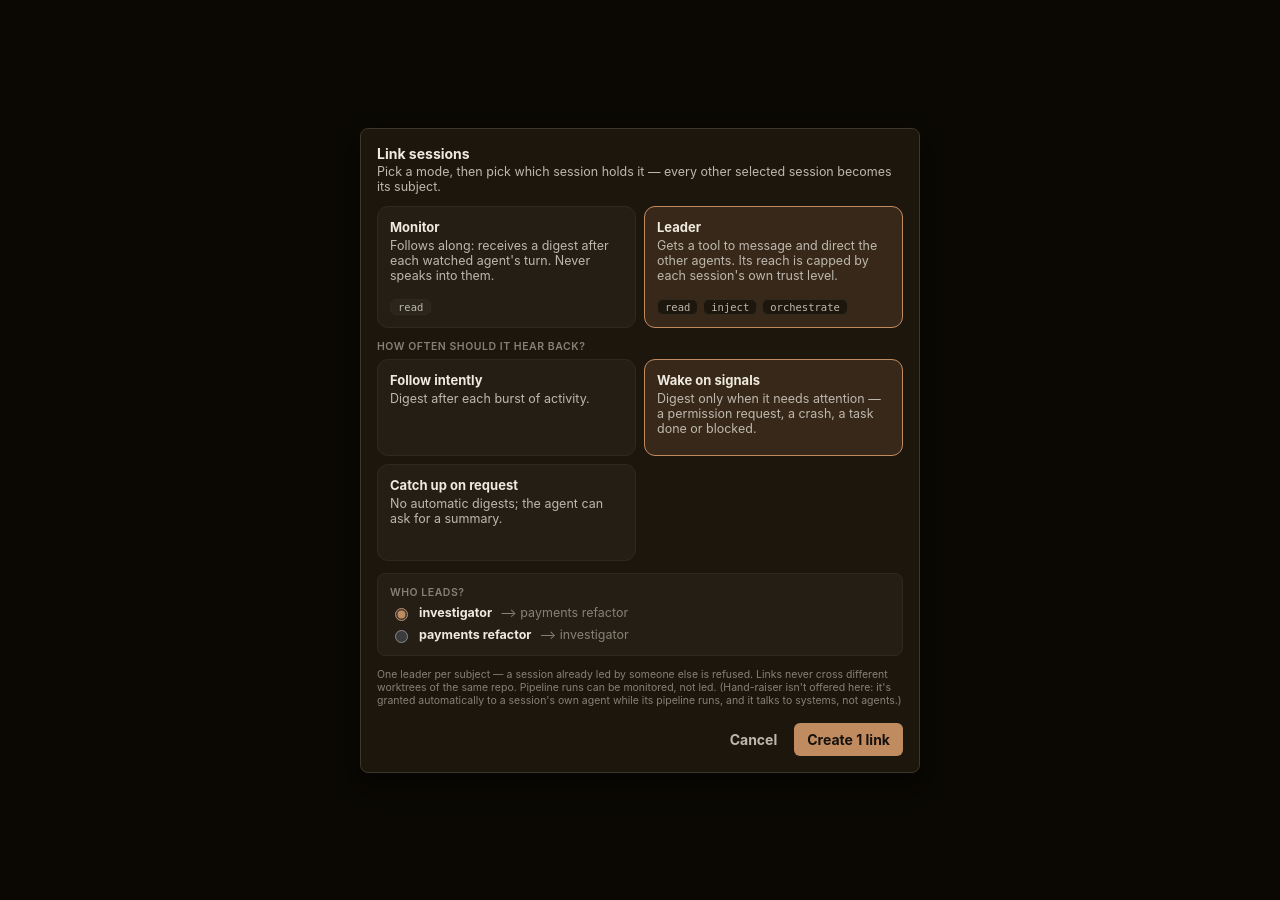
Test case: LinkChooserDialog › switches the role label and grant chips when Monitor is chosen
The image size is (1280, 900).
Click the text "Monitor" at (415, 226), box [390,218,440,234]
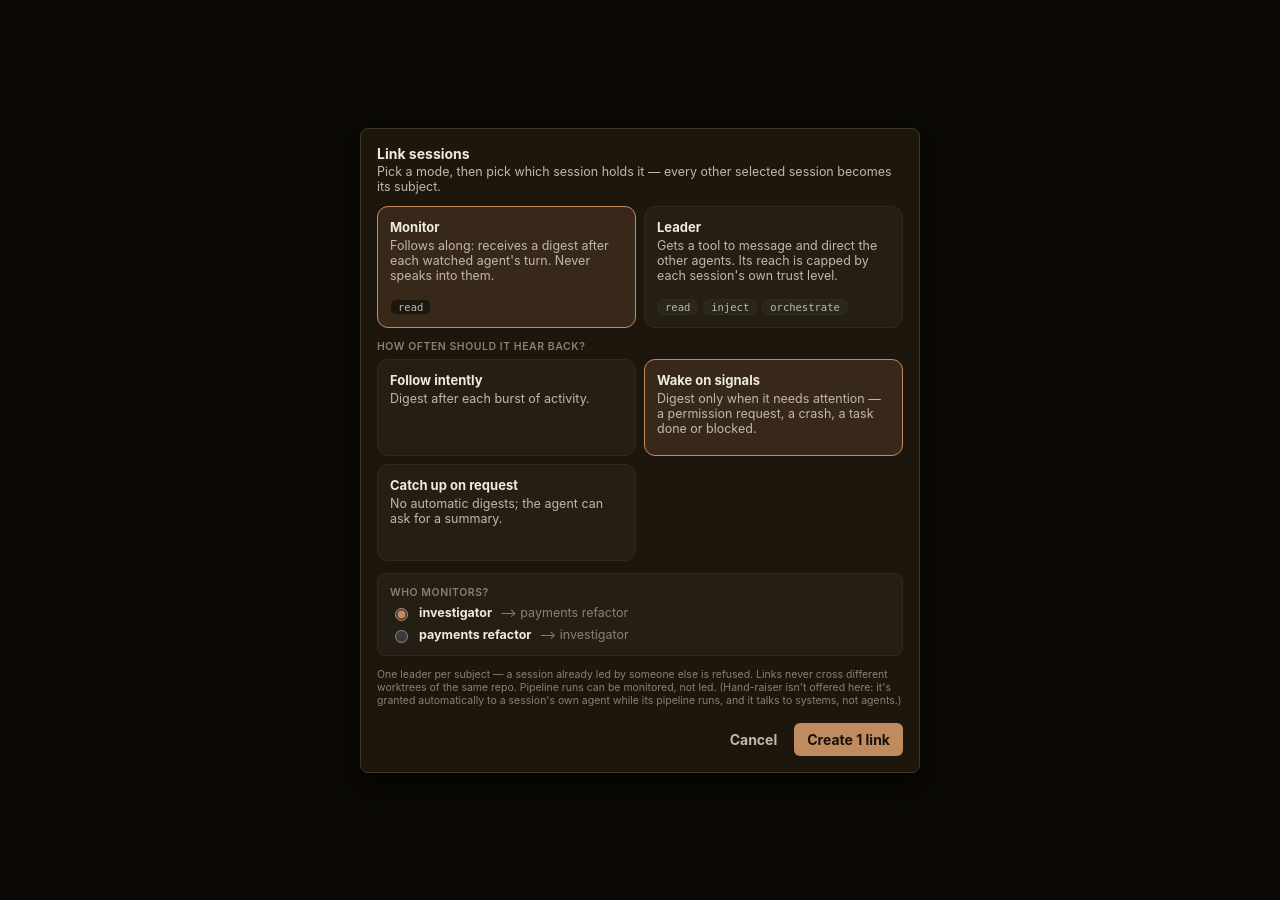
Expected: the text "Who monitors?" is shown, [390,586,489,598]
